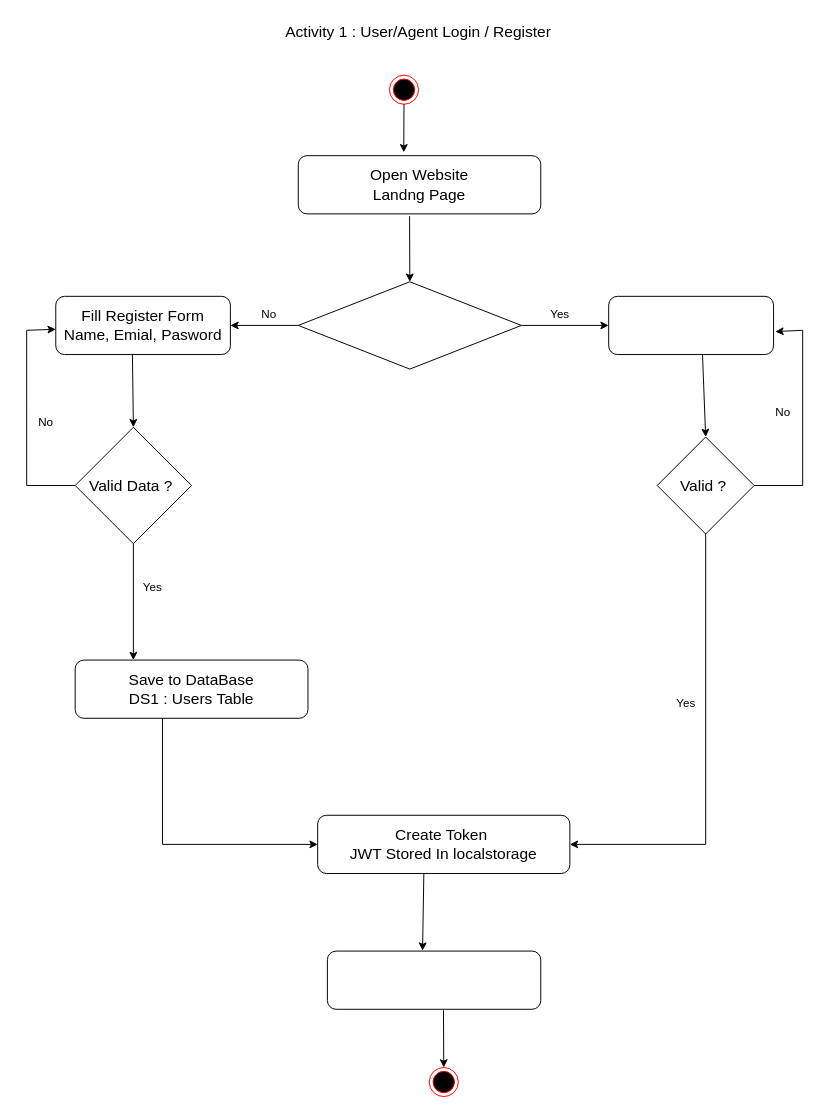
The diagram is 828 pixels wide and 1114 high, and some of its shapes have lost their labels. Here are the shapes that lost their labels. From the top down, the centre of each, then its label:
(409,325): Has Account
(691,325): Enter credentials Email & Password
(433,979): Redirect to Home Page
